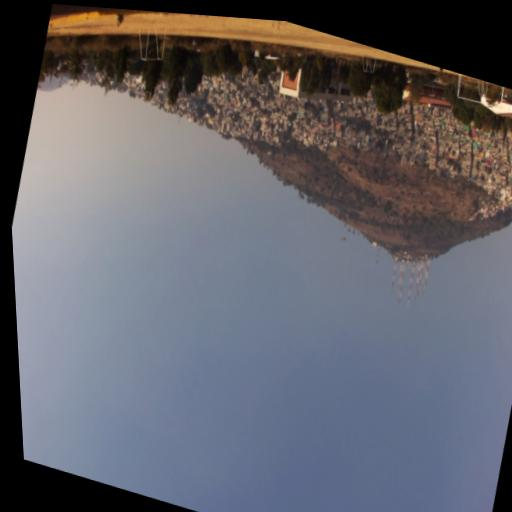drones: (339, 234, 348, 243)
